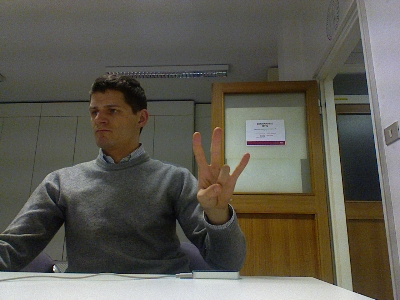观音: (190, 125, 250, 212)
